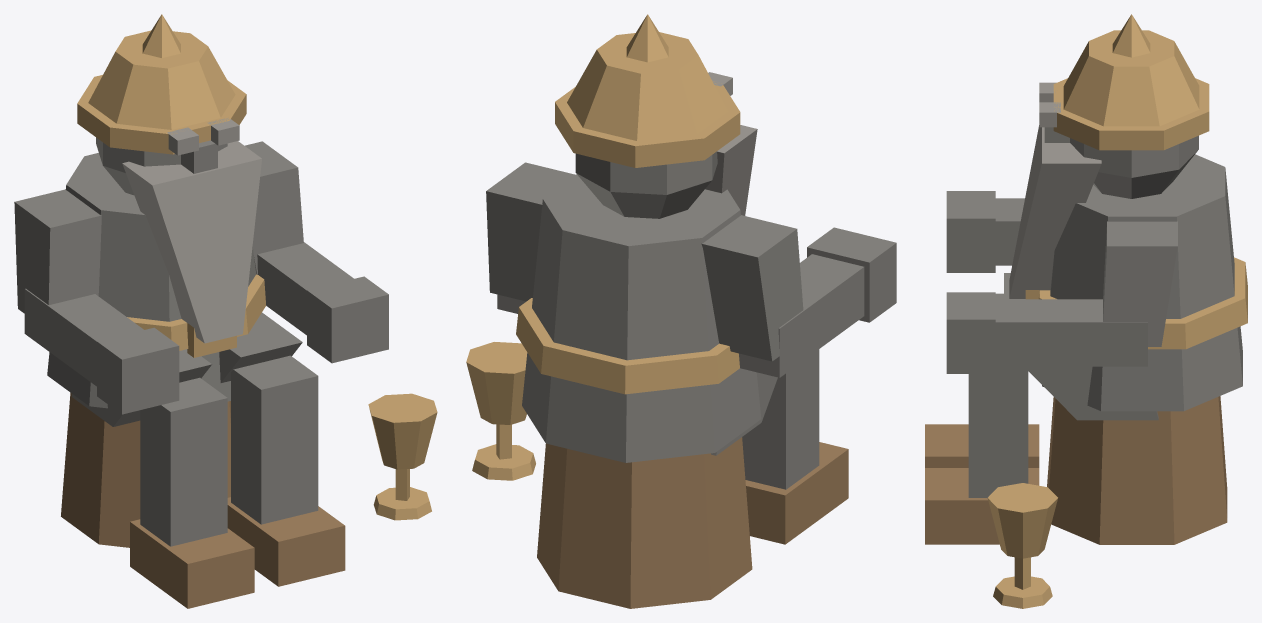
The model's file is it-craft.glb.
3 views of the same model, side by side, from view 1: azimuth 30°, elevation 25°; view 2: azimuth 150°, elevation 25°; view 3: azimuth 270°, elevation 25° (orthographic). The views are drawn at different scales.
Parts seen in each view (by area): view 1: beard, shin_r, shin_l, torso, helmet, seat_stump, arm_upper_l, boot_l, boot_r, fist_l, fist_r, arm_fore_l (+14 smaller); view 2: torso, seat_stump, helmet, arm_upper_l, belt, shin_l, arm_upper_r, arm_fore_l, head, boot_l, helmet_rim, goblet_cup (+5 smaller); view 3: torso, seat_stump, helmet, arm_fore_r, beard, arm_upper_r, shin_r, boot_r, helmet_rim, head, fist_l, fist_r (+9 smaller).
Boxes of the visible parts, x1,y1,x2,y2 form: beard: (122,141,261,343); shin_r: (231,355,318,524); shin_l: (140,377,227,546); torso: (47,153,256,408); helmet: (88,30,235,129); seat_stump: (61,392,230,547); arm_upper_l: (14,189,101,313); boot_l: (130,519,254,608); boot_r: (227,497,345,586); fist_l: (97,327,179,414); fist_r: (307,276,388,363); arm_fore_l: (24,288,143,386); torso: (522,174,761,462); seat_stump: (537,437,752,608); helmet: (567,32,728,140); arm_upper_l: (701,215,803,361); belt: (516,298,739,394); shin_l: (742,349,819,489); arm_upper_r: (486,162,575,301); arm_fore_l: (739,254,864,377); head: (575,151,717,218); boot_l: (745,442,848,544); helmet_rim: (555,81,740,167); goblet_cup: (466,342,527,424); torso: (1042,154,1242,411); seat_stump: (1047,396,1227,544); helmet: (1063,30,1199,126); arm_fore_r: (995,299,1147,366); beard: (1009,125,1101,298); arm_upper_r: (1103,221,1177,346); shin_r: (968,366,1028,497); boot_r: (925,468,1039,544); helmet_rim: (1053,78,1209,150); head: (1070,135,1198,198); fist_l: (946,191,995,272); fist_r: (946,292,995,373).
Size of what is drawn, in the model's own units: 0.147 by 0.2 by 0.1188.
